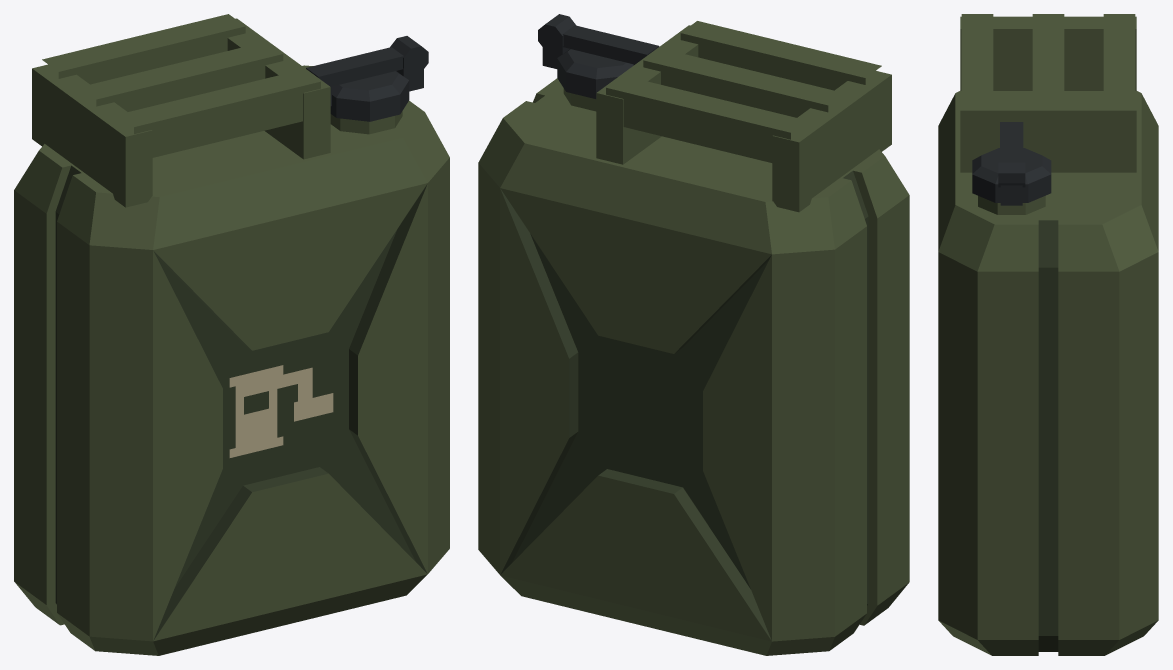
Rendered from fuel-jerrycan-6f1d85.glb.
3 renders of one model, left to right at view 1: azimuth 30°, elevation 25°; view 2: azimuth 150°, elevation 25°; view 3: azimuth 270°, elevation 25°, orthographic. The views are drawn at different scales.
Visible parts, largest first — view 1: fuel-jerrycan, cap, lever; view 2: fuel-jerrycan, lever, cap; view 3: fuel-jerrycan, cap, lever.
Boxes of the visible parts, <box> form: fuel-jerrycan: <box>14,14,449,655</box>; cap: <box>330,69,423,121</box>; lever: <box>306,36,428,106</box>; fuel-jerrycan: <box>478,21,909,655</box>; lever: <box>538,14,659,65</box>; cap: <box>542,47,633,98</box>; fuel-jerrycan: <box>938,14,1158,655</box>; cap: <box>972,148,1051,205</box>; lever: <box>998,122,1025,187</box>.
Size of the model in its own units: 0.32 by 0.45 by 0.18.
